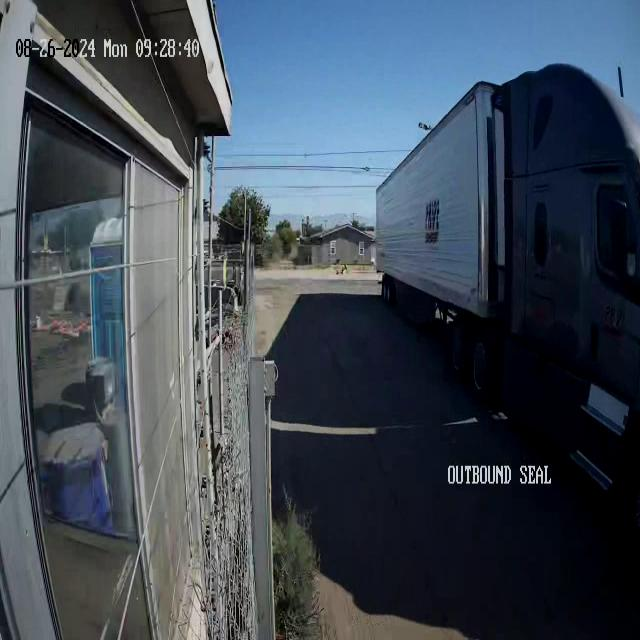CONTAINER: (374, 77, 493, 327)
